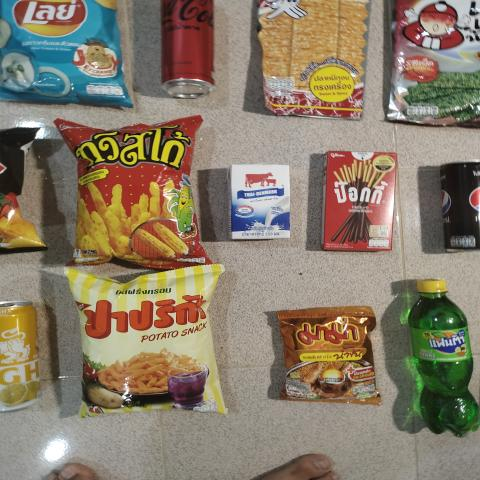bento_red: (250, 0, 362, 123)
coke_red: (158, 0, 220, 100)
fanta_green: (408, 272, 480, 447)
mama: (284, 311, 388, 420)
paprika: (76, 282, 211, 406)
pepsi_black: (435, 166, 480, 252)
pokki: (324, 150, 394, 252)
singha_yellow: (0, 292, 40, 420)
thai_denmark: (222, 163, 295, 235)
twisco: (80, 125, 193, 269)
